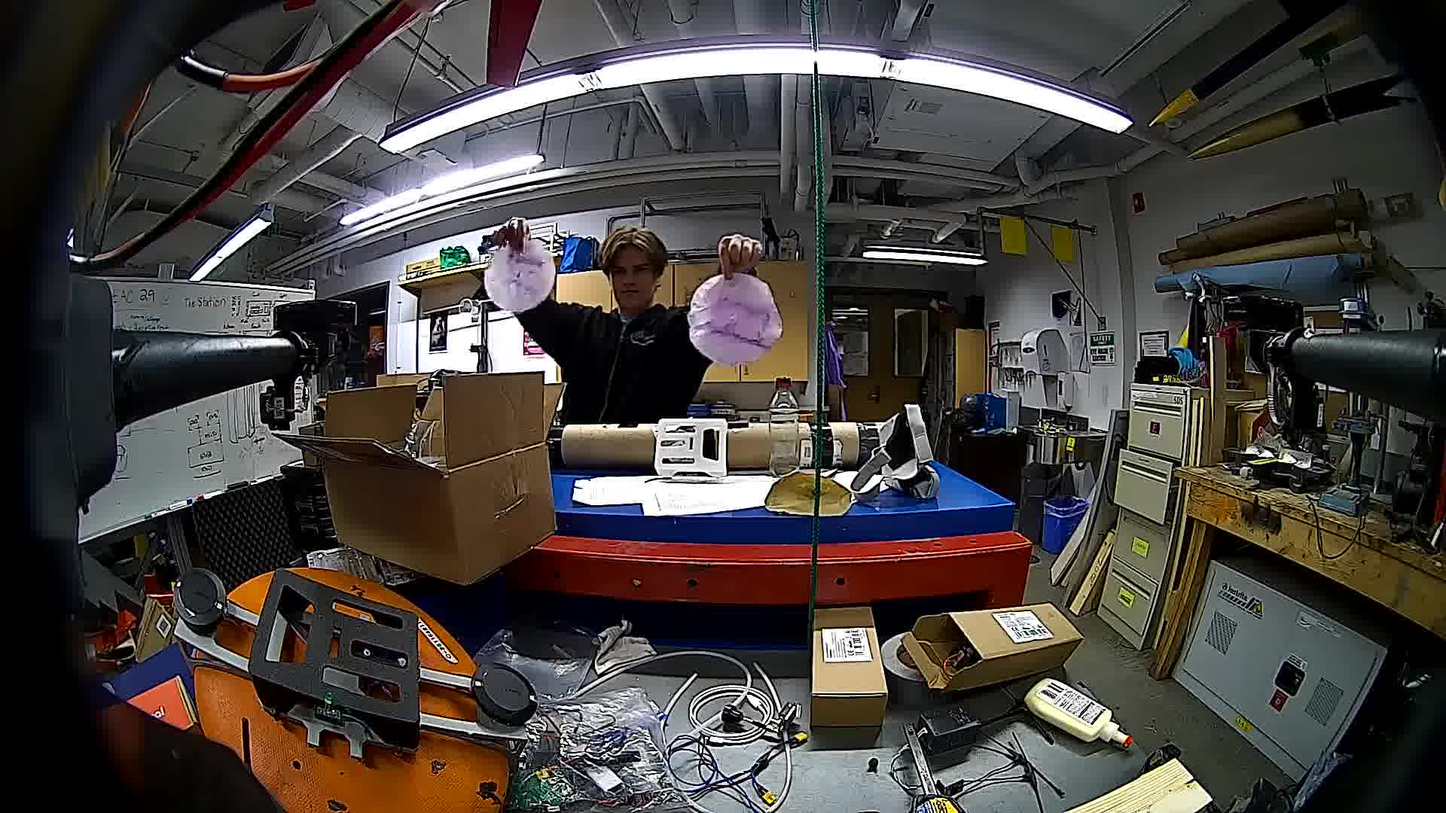Target: (687, 272, 783, 365), (484, 239, 555, 313)
